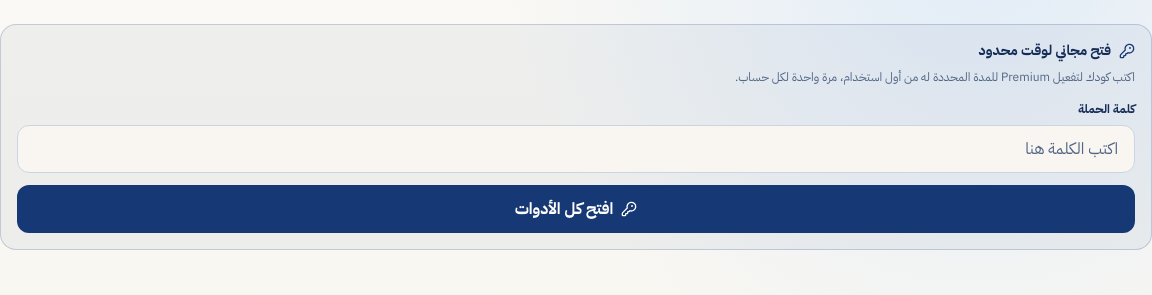
Ibn Al-Baytar campaign activation › explains that an expired redemption cannot be restarted
The width and height of the screenshot is (1152, 295).
Type "ابن البيطار" into the field labelled "كلمة الحملة" at [576, 149], box [17,125,1135,173]
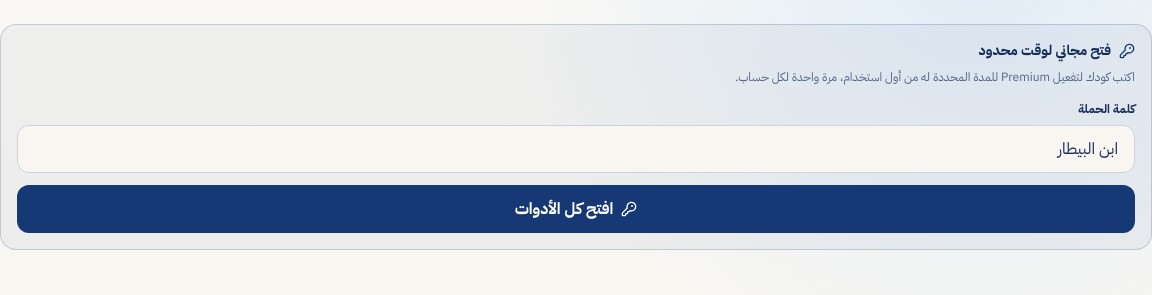
Click the button "افتح كل الأدوات" at [576, 209], box [17,185,1135,233]
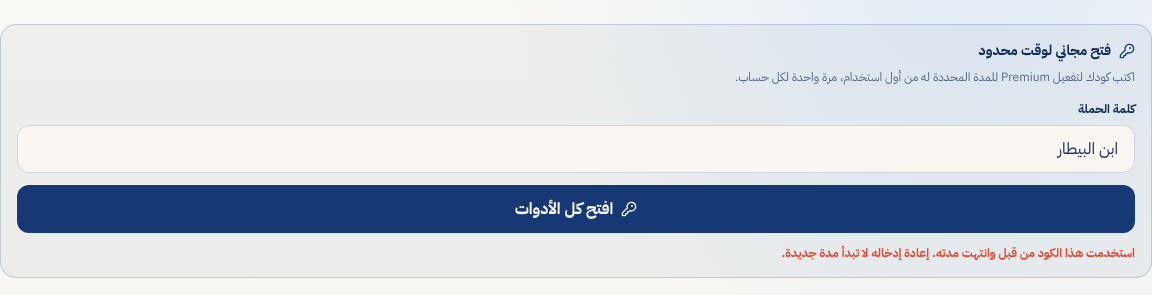
Expected: the message shows "لا تبدأ مدة جديدة", [781,244,1135,262]
